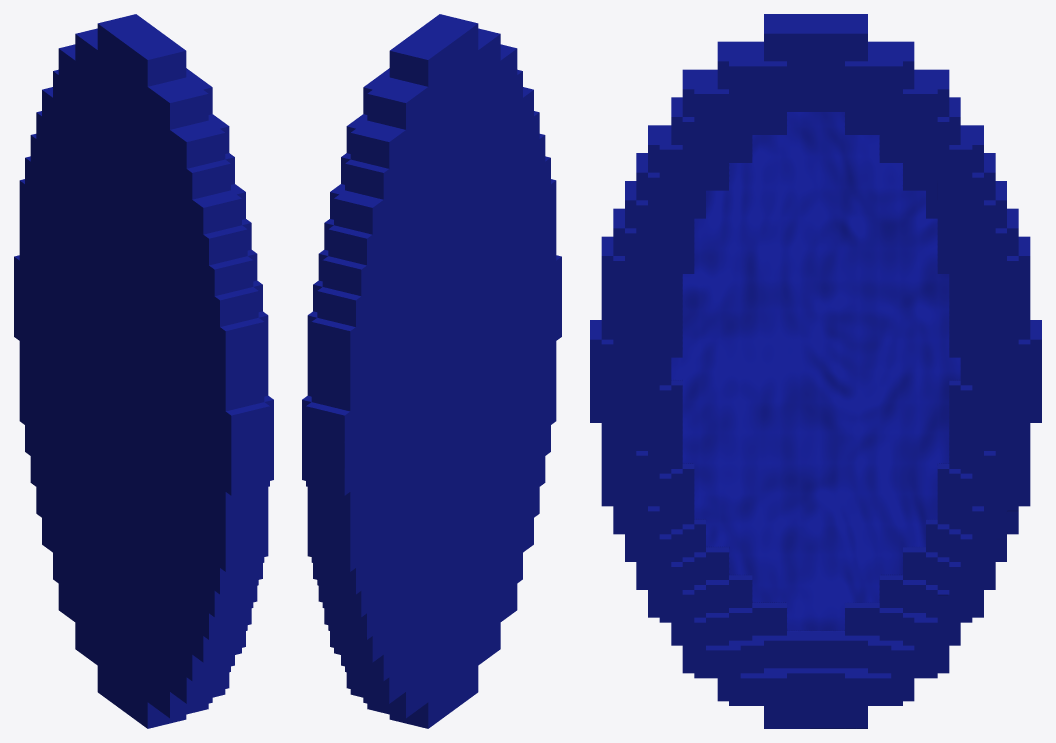
The model's file is portal (1).fbx.
The picture shows the model from 3 angles, left to right: view 1: azimuth 30°, elevation 25°; view 2: azimuth 150°, elevation 25°; view 3: azimuth 270°, elevation 25°; orthographic projection. The views are drawn at different scales.
Parts seen in each view (by area): view 1: Circle.002; view 2: Circle.002; view 3: Circle.002.
Boxes of the visible parts, x1=… form: Circle.002: x1=14, y1=14, x2=273, y2=728; Circle.002: x1=302, y1=14, x2=561, y2=728; Circle.002: x1=590, y1=14, x2=1041, y2=728.
Size of the model in its own units: 51.15 by 678 by 399.
1 material, 1 textured.
